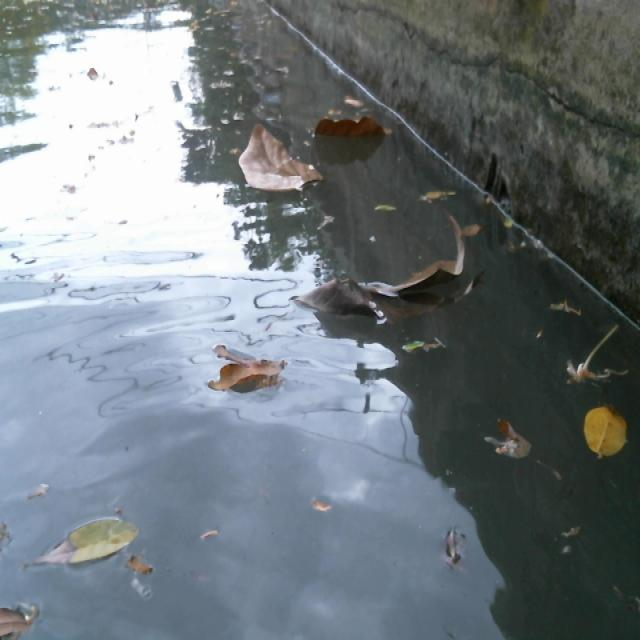Big-leaf: (288, 214, 476, 327), (207, 337, 306, 426), (222, 120, 324, 203), (304, 106, 389, 151)
Small-leaf: (24, 498, 151, 599), (587, 411, 640, 478), (375, 328, 455, 365), (485, 404, 526, 461), (0, 600, 55, 640), (551, 280, 595, 320), (369, 200, 410, 229), (493, 200, 522, 237), (414, 182, 467, 202), (303, 491, 338, 521), (339, 88, 373, 116), (120, 554, 156, 579), (194, 521, 221, 544)
